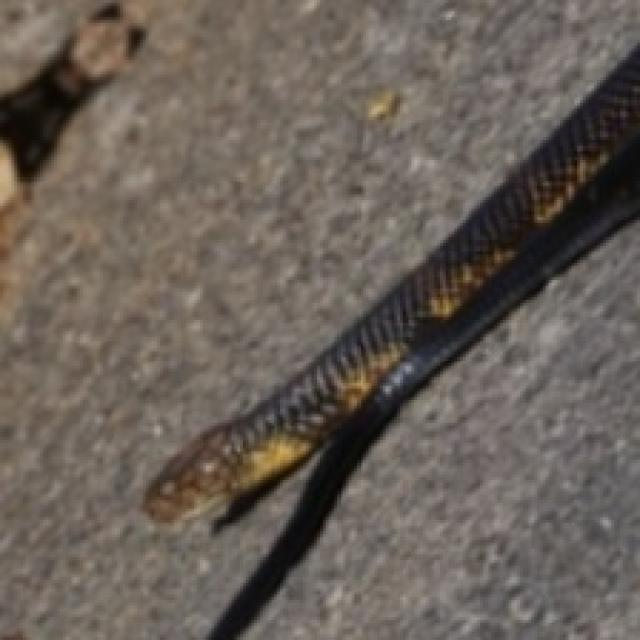king cobra: (143, 46, 637, 520)
